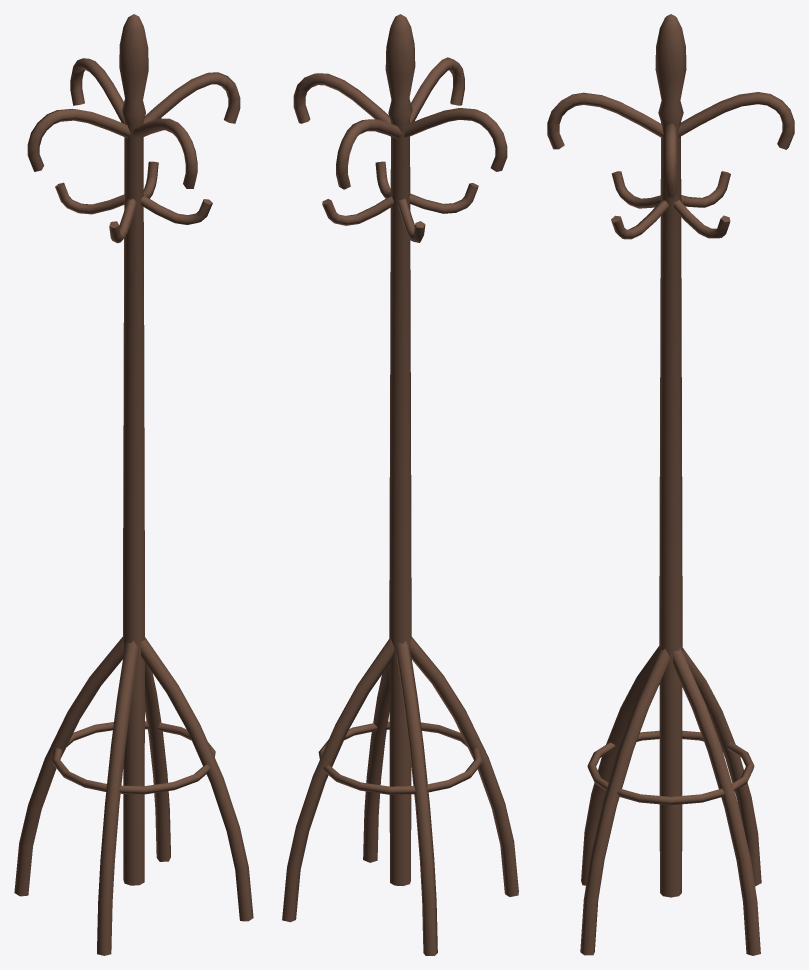
The model's file is Kit_HatStand.fbx.
The picture shows the model from 3 angles, left to right: view 1: azimuth 30°, elevation 25°; view 2: azimuth 150°, elevation 25°; view 3: azimuth 270°, elevation 25°; orthographic projection.
Parts seen in each view (by area): view 1: Kit_HatStand_LOD0; view 2: Kit_HatStand_LOD0; view 3: Kit_HatStand_LOD0.
Boxes of the visible parts, <box> form: Kit_HatStand_LOD0: <box>14,14,253,955</box>; Kit_HatStand_LOD0: <box>282,14,518,955</box>; Kit_HatStand_LOD0: <box>547,14,794,955</box>.
Size of what is drawn, in the model's own units: 0.4467 by 1.8 by 0.4467.
